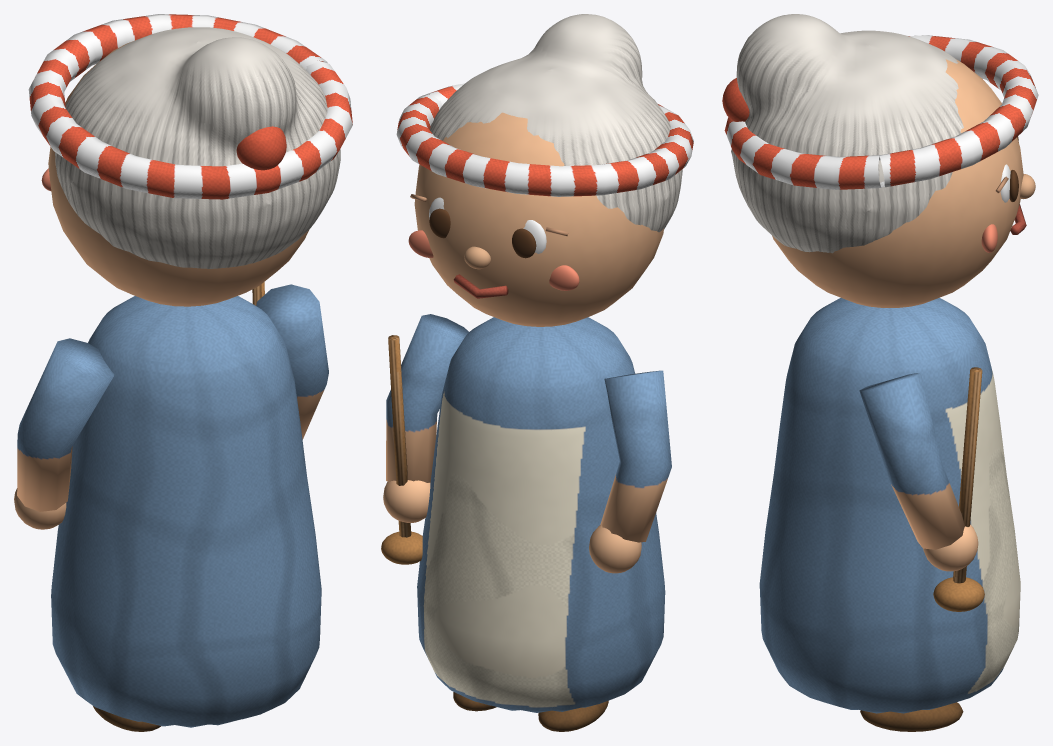
File: marta.glb
3 views of the same model, side by side, from view 1: azimuth 30°, elevation 25°; view 2: azimuth 150°, elevation 25°; view 3: azimuth 270°, elevation 25° (orthographic). The views are drawn at different scales.
Parts seen in each view (by area): view 1: Body, Head; view 2: Body, Head; view 3: Body, Head.
Boxes of the visible parts, x1,y1,x2,y2 form: Body: [14, 282, 328, 731]; Head: [28, 14, 352, 306]; Body: [381, 314, 671, 731]; Head: [396, 14, 693, 326]; Body: [759, 298, 1020, 731]; Head: [722, 14, 1038, 307].
Size of the model in its own units: 0.7833 by 1.76 by 0.7348.
1 material, 1 textured.
